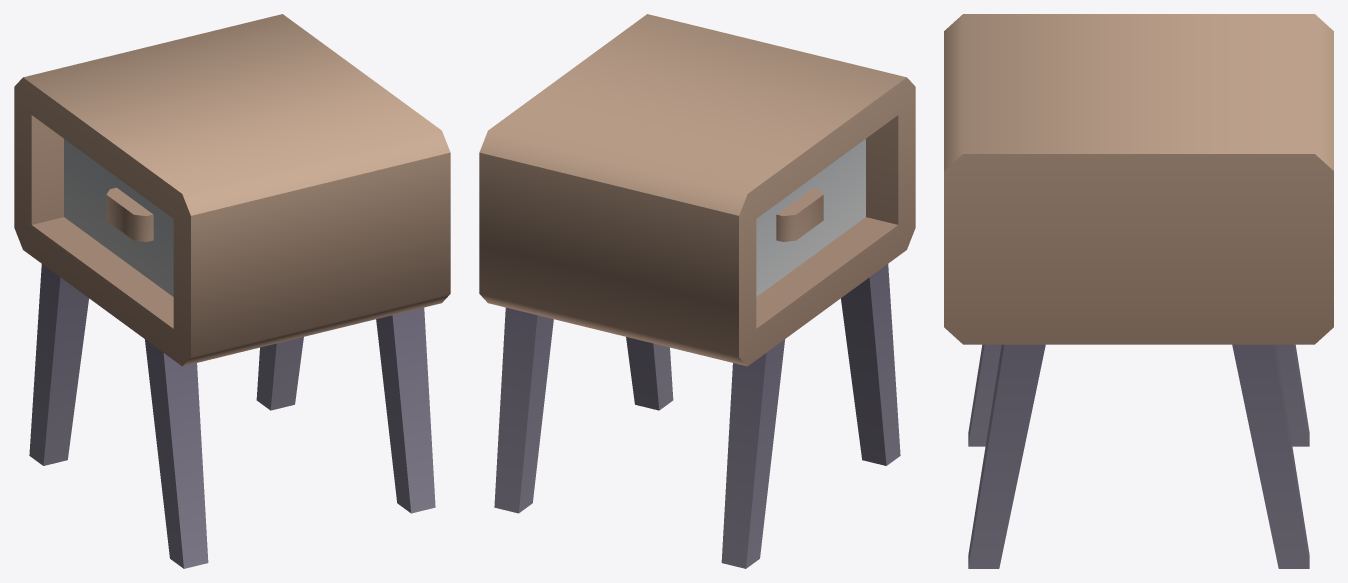
The model's file is sidetable-small-drawers.glb.
3 views of the same model, side by side, from view 1: azimuth 30°, elevation 25°; view 2: azimuth 150°, elevation 25°; view 3: azimuth 270°, elevation 25° (orthographic). The views are drawn at different scales.
Visible parts, largest first — view 1: sidetable-small-drawers; view 2: sidetable-small-drawers; view 3: sidetable-small-drawers.
Boxes of the visible parts, x1,y1,x2,y2 form: sidetable-small-drawers: (14, 14, 450, 568); sidetable-small-drawers: (479, 14, 915, 568); sidetable-small-drawers: (944, 14, 1333, 568).
Size of the model in its own units: 0.4 by 0.556 by 0.471.
